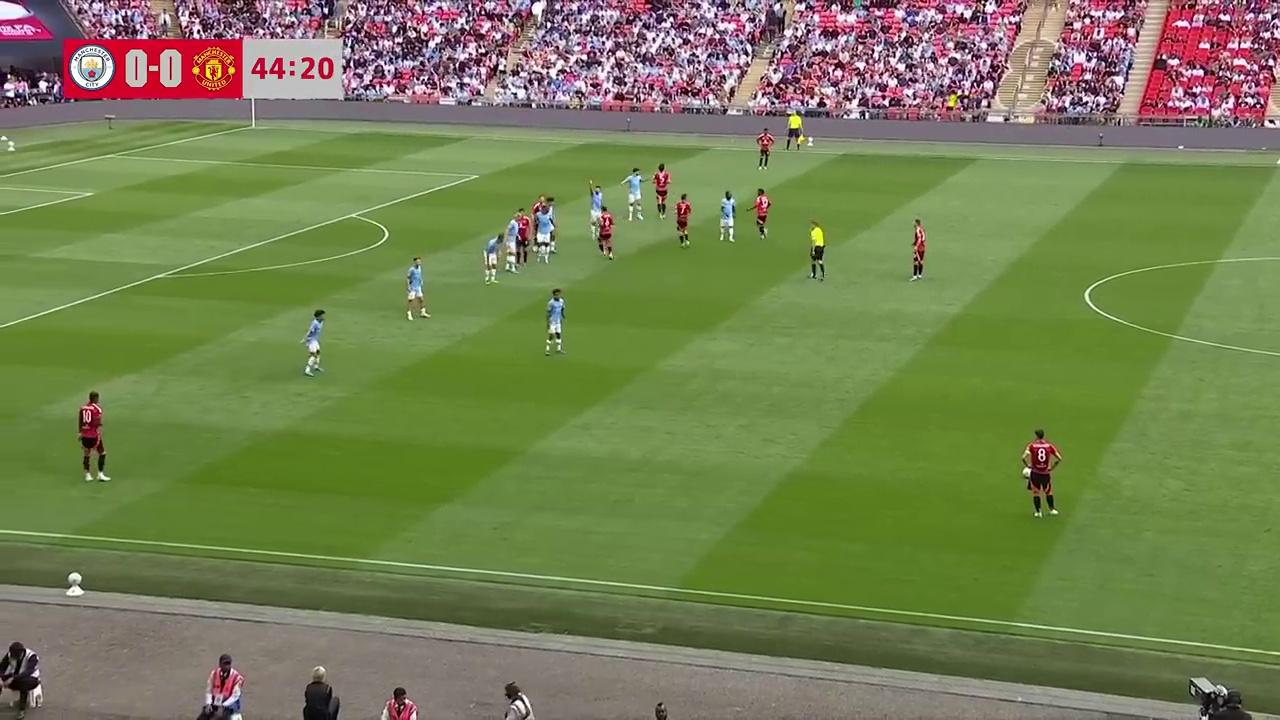ball: (1019, 466, 1034, 479)
player: (1021, 428, 1061, 518), (77, 390, 110, 482), (200, 654, 246, 720), (301, 308, 325, 376), (405, 256, 429, 320), (529, 209, 556, 264), (544, 288, 565, 354), (528, 200, 549, 261), (508, 208, 530, 266), (527, 195, 549, 248), (749, 188, 771, 239), (482, 232, 504, 283), (595, 206, 615, 260), (624, 167, 644, 221), (910, 218, 926, 281), (653, 163, 671, 218), (674, 194, 692, 247), (540, 197, 558, 247), (719, 191, 736, 242), (784, 111, 805, 151), (589, 182, 605, 229), (756, 128, 773, 170)
referee: (808, 219, 826, 281)
